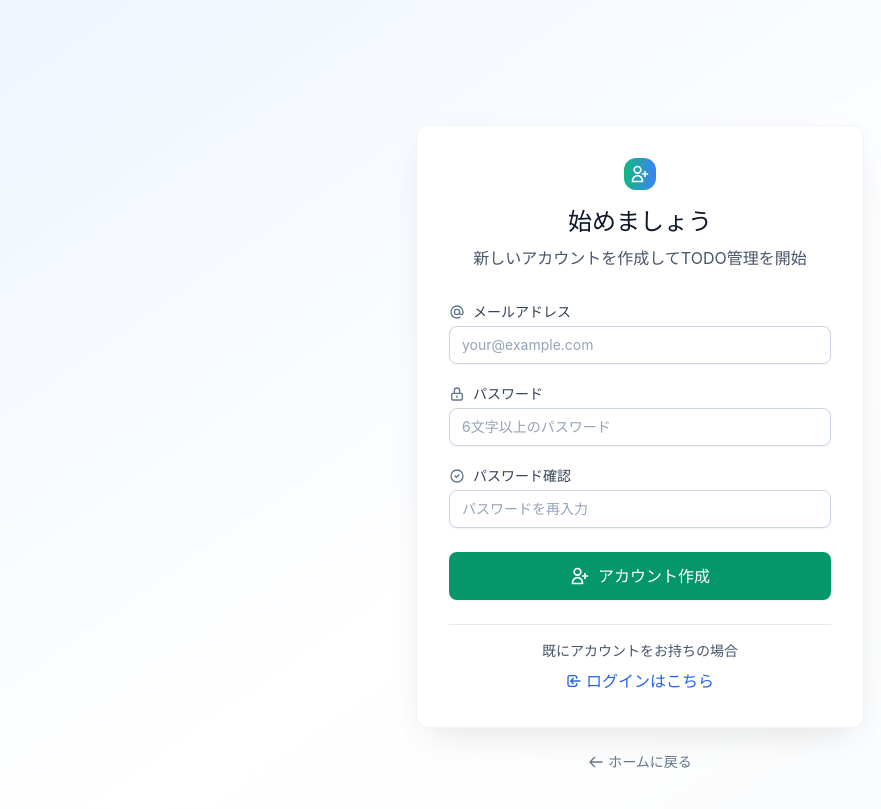
Test: SignupForm › バリデーション › パスワードが一致しない場合にバリデーションエラーが表示される
Step 1. Type "password123" into the password field labelled "パスワード" → (640,426), box top-left (449, 408), bottom-right (831, 446)
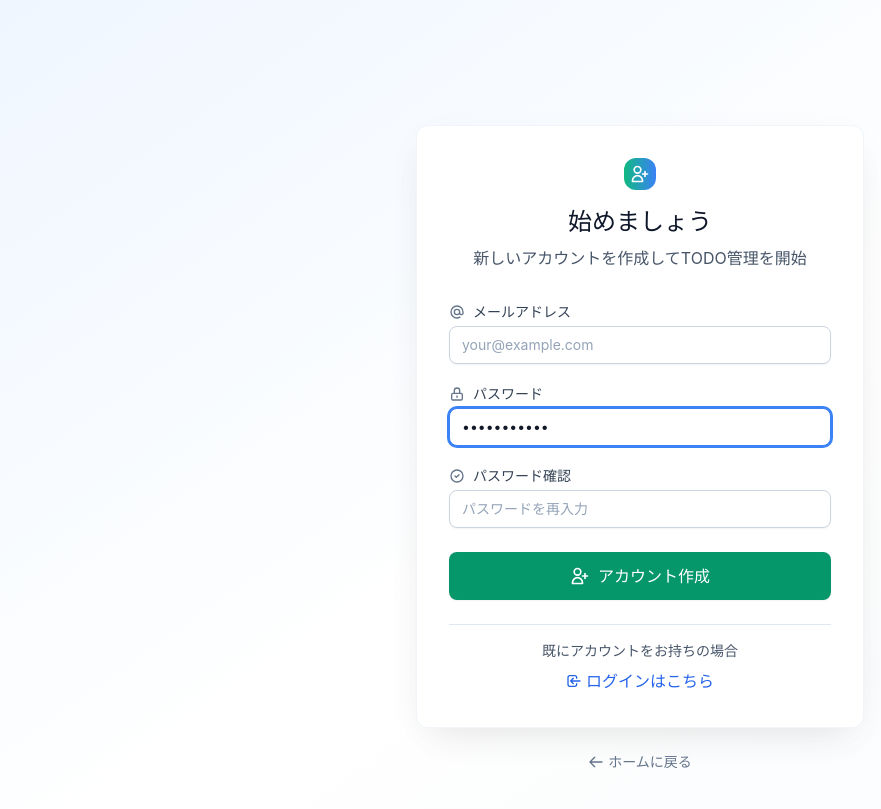
Step 2. Type "different123" into the password field labelled "パスワード確認" → (640,508), box top-left (449, 490), bottom-right (831, 528)
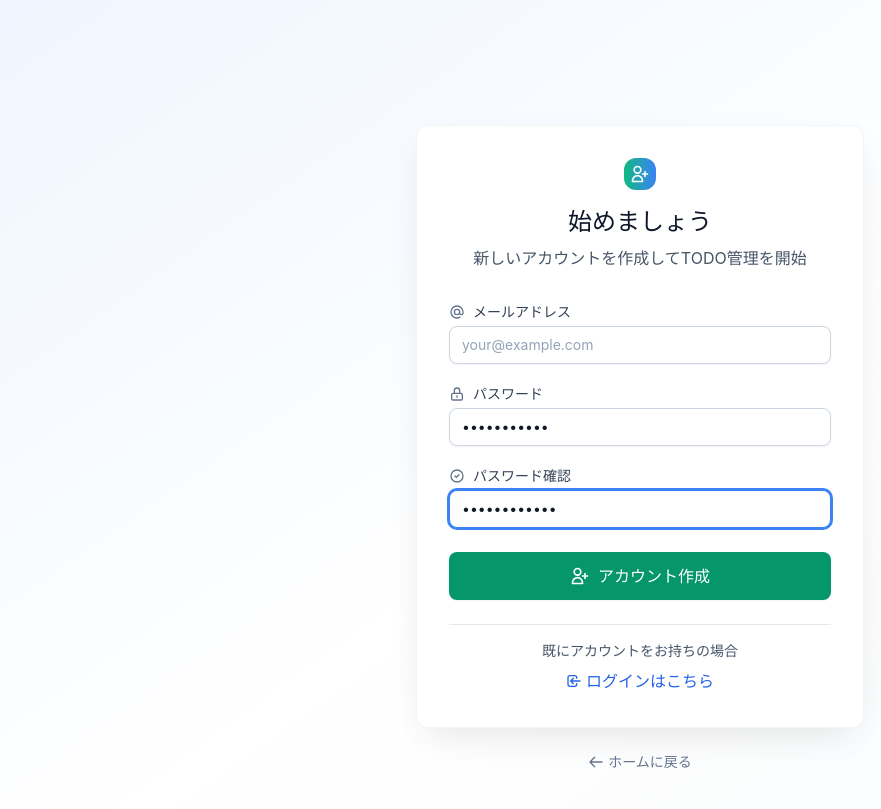
Step 3. Click the button "アカウント作成" → (640,576), box top-left (449, 552), bottom-right (831, 600)
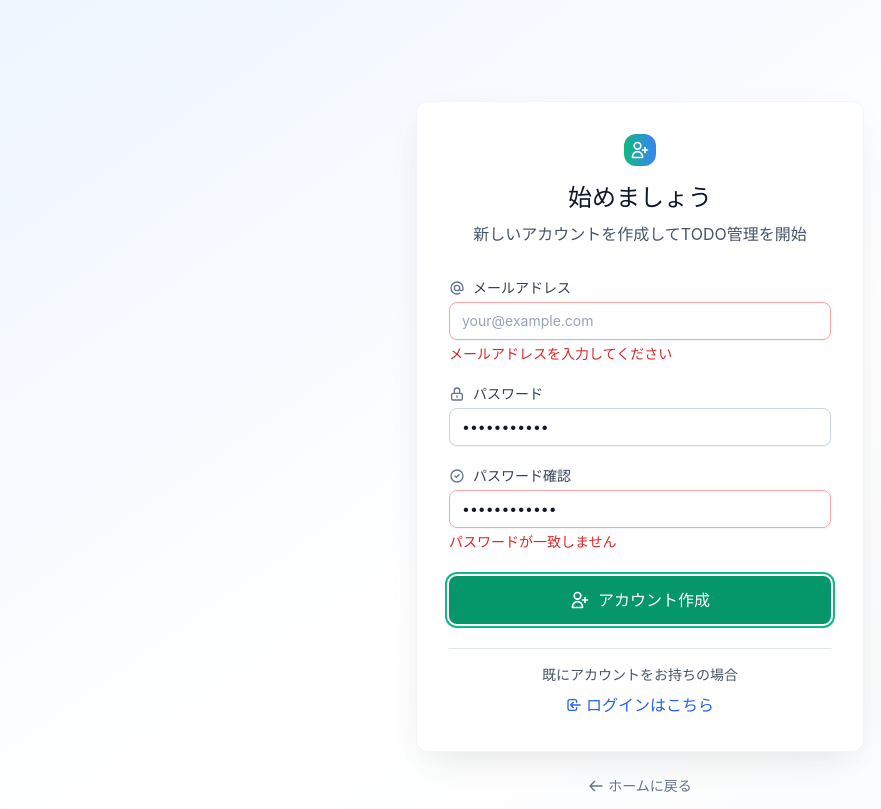
Expected: the text "パスワードが一致しません" is shown, top-left (449, 532), bottom-right (617, 550)
